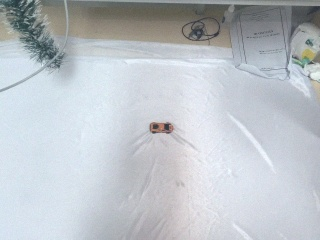toy_car: (150, 119, 174, 136)
